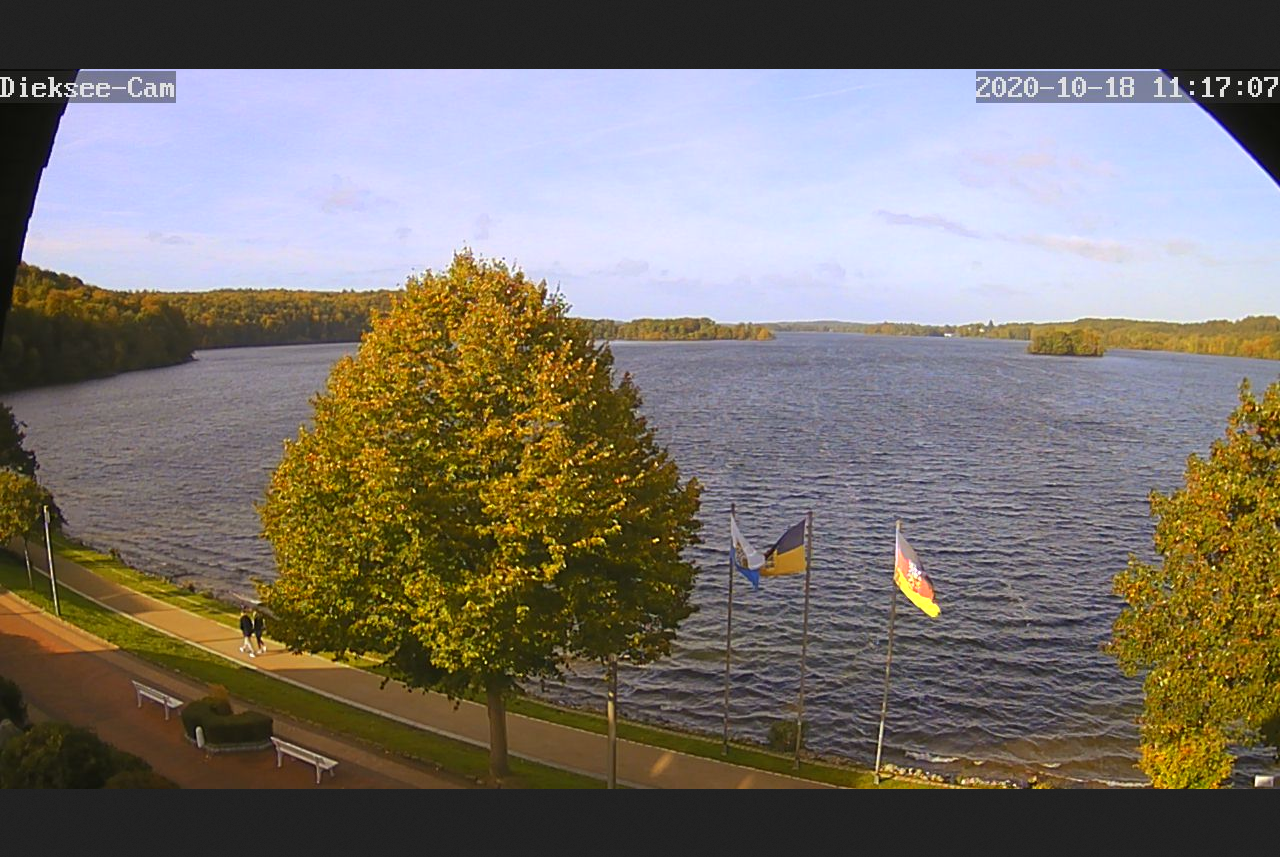maybe: (895, 526, 939, 618), (764, 520, 812, 573), (730, 515, 762, 588)
